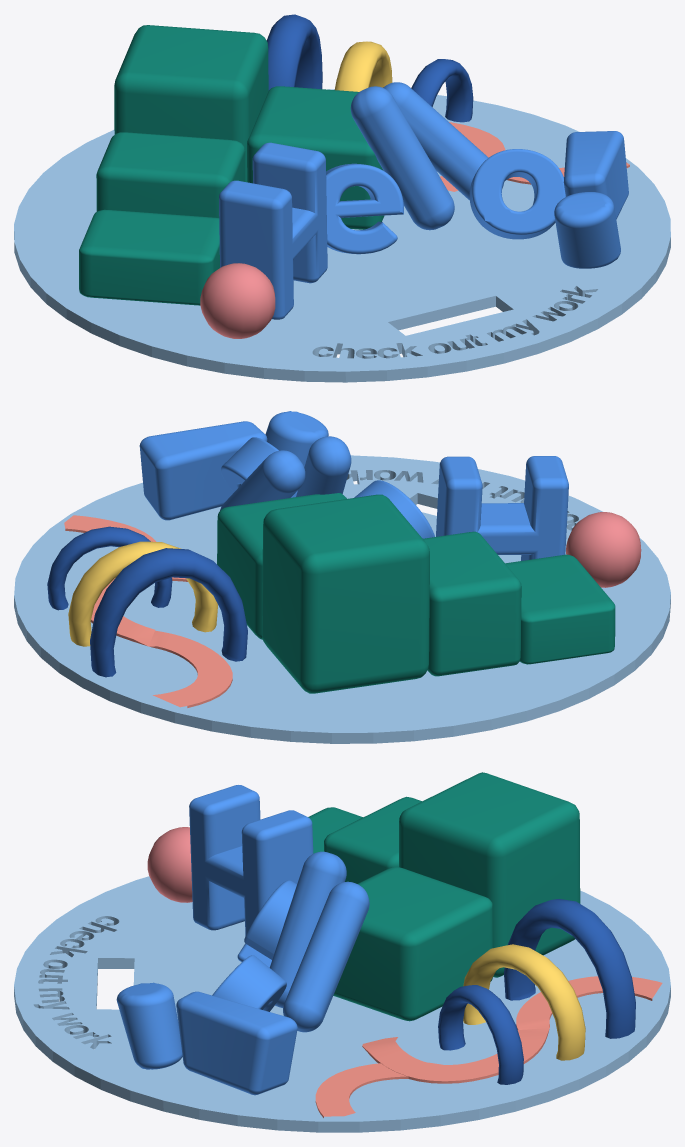
File: hello.gltf
3 views of the same model, one above another, from view 1: azimuth 30°, elevation 25°; view 2: azimuth 150°, elevation 25°; view 3: azimuth 270°, elevation 25° (orthographic).
Parts seen in each view (by area): view 1: Cylinder & 3D Text 3 - c & 3D Text 3 - h & 3D Text 3 - e & 3, Box - baked 2, H - H - baked, Box - baked, Box - baked 3, ! - ! - baked 1, Box - baked 1, 3D Text 1 - l - baked 1, 3D Text 2 - o - baked, 3D Text - e - baked, ball - baked, 3D Text 1 - l - baked (+4 smaller); view 2: Cylinder & 3D Text 3 - c & 3D Text 3 - h & 3D Text 3 - e & 3, Box - baked 2, Box - baked 3, ! - ! - baked 1, H - H - baked, Box - baked, l ring, Box - baked 1, road, m ring, ball - baked, sm ring (+4 smaller); view 3: Cylinder & 3D Text 3 - c & 3D Text 3 - h & 3D Text 3 - e & 3, Box - baked 2, Box - baked 1, ! - ! - baked 1, H - H - baked, road, l ring, 3D Text 1 - l - baked, m ring, 3D Text 1 - l - baked 1, sm ring, Box - baked 3 (+4 smaller).
Part boxes in pixels (left/top/right/bottom): Cylinder & 3D Text 3 - c & 3D Text 3 - h & 3D Text 3 - e & 3: left=14, top=89, right=670, bottom=382; Box - baked 2: left=114, top=25, right=268, bottom=182; H - H - baked: left=219, top=142, right=327, bottom=319; Box - baked: left=79, top=209, right=219, bottom=305; Box - baked 3: left=96, top=132, right=245, bottom=217; ! - ! - baked 1: left=554, top=131, right=628, bottom=268; Box - baked 1: left=247, top=86, right=384, bottom=229; 3D Text 1 - l - baked 1: left=350, top=86, right=454, bottom=230; 3D Text 2 - o - baked: left=469, top=149, right=565, bottom=239; 3D Text - e - baked: left=326, top=163, right=403, bottom=254; ball - baked: left=200, top=263, right=275, bottom=338; 3D Text 1 - l - baked: left=383, top=82, right=503, bottom=200; Cylinder & 3D Text 3 - c & 3D Text 3 - h & 3D Text 3 - e & 3: left=14, top=455, right=670, bottom=743; Box - baked 2: left=262, top=494, right=429, bottom=693; Box - baked 3: left=423, top=531, right=521, bottom=676; ! - ! - baked 1: left=139, top=411, right=328, bottom=520; H - H - baked: left=436, top=456, right=568, bottom=560; Box - baked: left=505, top=554, right=615, bottom=664; l ring: left=90, top=548, right=247, bottom=677; Box - baked 1: left=217, top=493, right=346, bottom=639; road: left=64, top=515, right=232, bottom=707; m ring: left=68, top=541, right=217, bottom=646; ball - baked: left=566, top=512, right=641, bottom=587; sm ring: left=47, top=526, right=172, bottom=610; Cylinder & 3D Text 3 - c & 3D Text 3 - h & 3D Text 3 - e & 3: left=14, top=876, right=670, bottom=1132; Box - baked 2: left=399, top=772, right=580, bottom=977; Box - baked 1: left=333, top=866, right=492, bottom=1021; ! - ! - baked 1: left=116, top=982, right=297, bottom=1095; H - H - baked: left=189, top=785, right=313, bottom=935; road: left=315, top=976, right=662, bottom=1117; l ring: left=504, top=899, right=635, bottom=1038; 3D Text 1 - l - baked: left=283, top=881, right=369, bottom=1032; m ring: left=463, top=944, right=585, bottom=1060; 3D Text 1 - l - baked 1: left=269, top=851, right=346, bottom=1007; sm ring: left=438, top=985, right=523, bottom=1084; Box - baked 3: left=324, top=796, right=421, bottom=883.
Size of the model in its own units: 0.0445 by 0.0117 by 0.0445.
